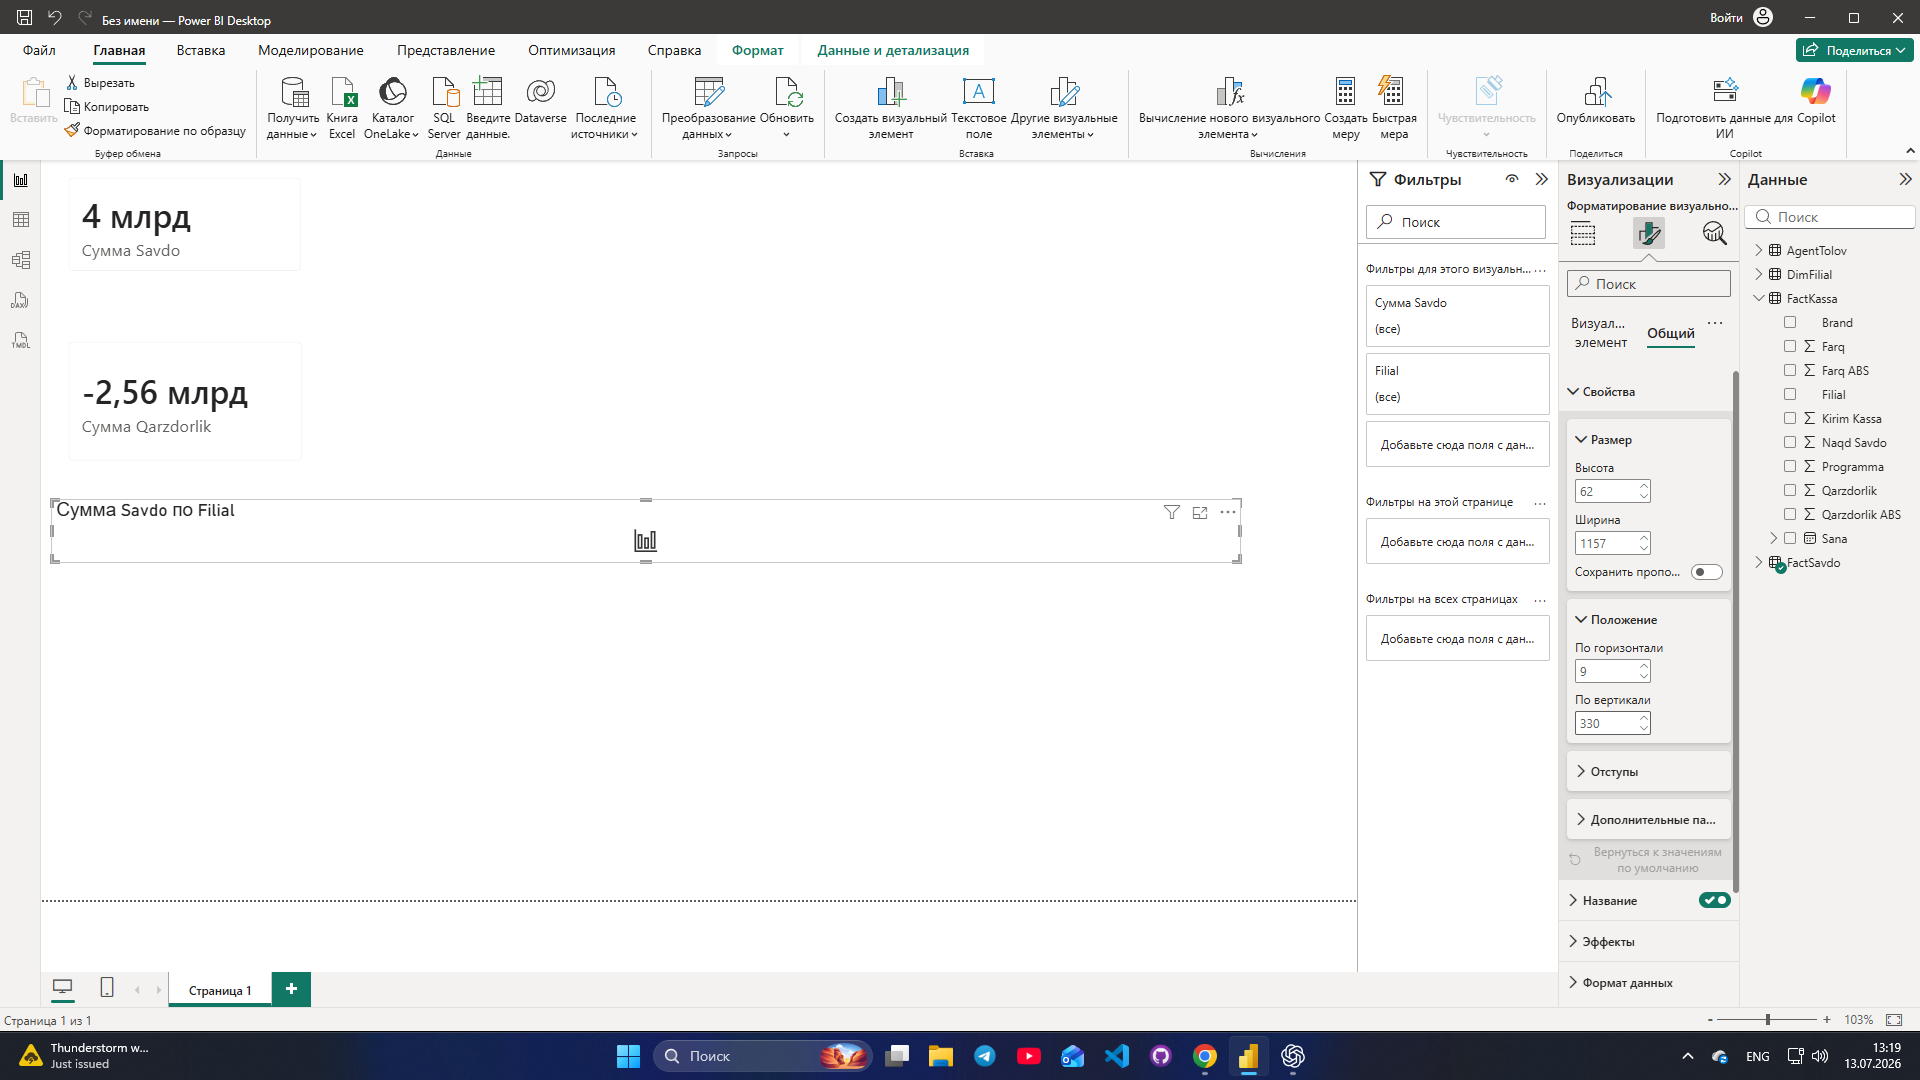

What the dashboard file says about the page in this screenshot:
{"tool":"powerbi","page":{"name":"Страница 1","canvas":[1280,720],"ordinal":0},"visuals":[{"type":"cardVisual","fields":{"Data":["Sum(FactSavdo.Savdo)"]},"box":[9.7,0,260.7,125.5],"z":0},{"type":"cardVisual","fields":{"Data":["Sum(FactKassa.Qarzdorlik)"]},"box":[10,159.5,261,150],"z":2},{"type":"clusteredColumnChart","fields":{"Category":["FactSavdo.Filial"],"Y":["Sum(FactSavdo.Savdo)"]},"box":[10,10,1157,150],"z":3}]}

Visuals, with their boxes on the page's 1280x720 design canvas (x1, y1, x2, y2). These are canvas units, not pixel positions in the 1920x1080 screenshot, which may show the page scaled, cropped or inside an application window:
cardVisual - Sum(FactSavdo.Savdo): 10:0:270:126
cardVisual - Sum(FactKassa.Qarzdorlik): 10:160:271:310
clusteredColumnChart - FactSavdo.Filial x Sum(FactSavdo.Savdo): 10:10:1167:160
